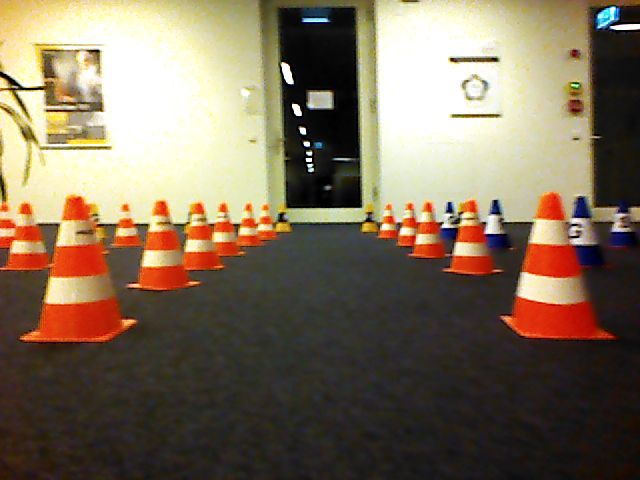bluecone: (574, 195, 614, 267), (486, 199, 516, 249)
orangeconesmall: (18, 192, 139, 344), (498, 191, 620, 340), (124, 200, 203, 293), (444, 199, 509, 277), (182, 201, 227, 272), (409, 200, 452, 260), (215, 202, 245, 257), (396, 201, 419, 248)
